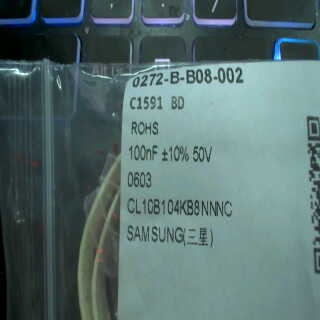100nF: (124, 138, 161, 167)
